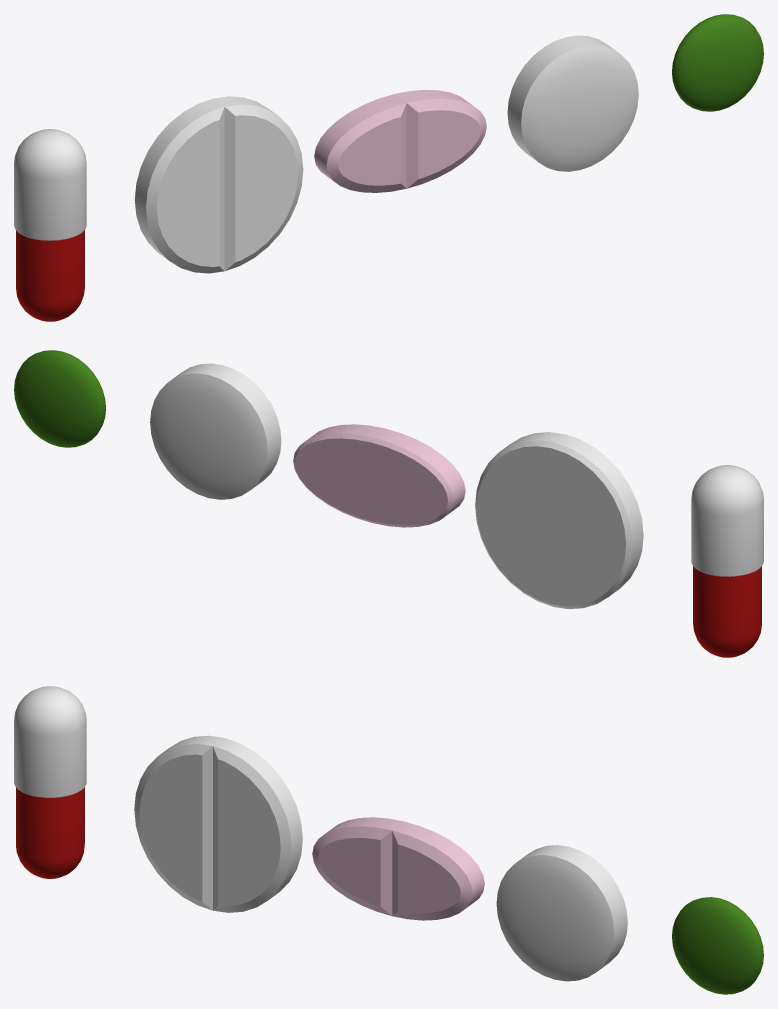
The model's file is variety_of_pills.glb.
3 views of the same model, one above another, from view 1: azimuth 30°, elevation 25°; view 2: azimuth 150°, elevation 25°; view 3: azimuth 330°, elevation 25° (orthographic).
Parts seen in each view (by area): view 1: Pill2, Pill4, Pill3, Pill1, Pill5; view 2: Pill2, Pill4, Pill3, Pill1, Pill5; view 3: Pill2, Pill4, Pill3, Pill1, Pill5.
Boxes of the visible parts, <box> form: Pill2: <box>134,96,303,273</box>; Pill4: <box>507,35,638,171</box>; Pill3: <box>314,89,486,192</box>; Pill1: <box>14,129,86,321</box>; Pill5: <box>672,14,763,111</box>; Pill2: <box>475,432,643,609</box>; Pill4: <box>150,363,281,499</box>; Pill3: <box>293,424,465,527</box>; Pill1: <box>691,465,763,657</box>; Pill5: <box>14,350,105,447</box>; Pill2: <box>134,735,302,912</box>; Pill4: <box>496,845,627,981</box>; Pill3: <box>312,817,484,920</box>; Pill1: <box>14,686,86,878</box>; Pill5: <box>672,897,763,994</box>.
Bounding box in the file's own units: 6.33 × 1.51 × 0.5369.
